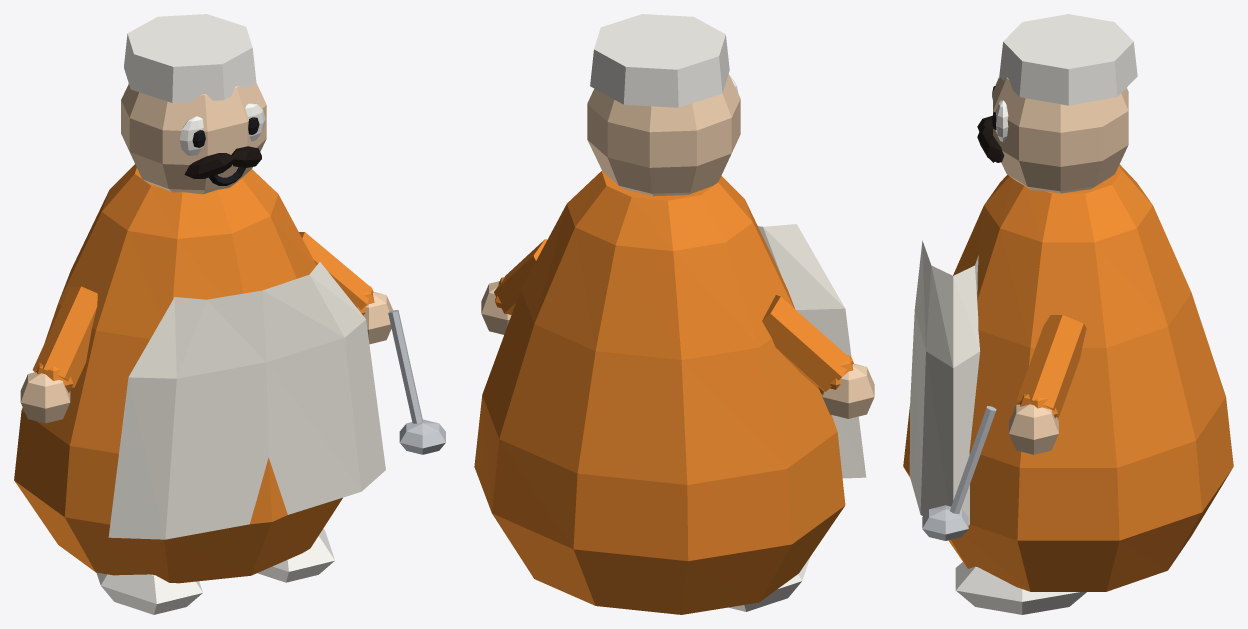
File: npc_cocinero_carcel.glb
3 renders of one model, left to right at view 1: azimuth 30°, elevation 25°; view 2: azimuth 150°, elevation 25°; view 3: azimuth 270°, elevation 25°, orthographic. The views are drawn at different scales.
Parts seen in each view (by area): view 1: body_apron, body_cook_smock, cap_white, head_skin_crema, arms_cook_smock, legs_white, arms_skin_crema, props_silver, face_hair_black, face_white, face_black; view 2: body_cook_smock, head_skin_crema, cap_white, body_apron, arms_cook_smock, arms_skin_crema, legs_white; view 3: body_cook_smock, body_apron, head_skin_crema, cap_white, arms_cook_smock, legs_white, props_silver, arms_skin_crema, face_hair_black, face_white.
Part boxes in pixels (box(x1,y1,x2,y2)): body_apron: box(108, 262, 385, 539); body_cook_smock: box(14, 164, 342, 583); cap_white: box(124, 14, 256, 102); head_skin_crema: box(121, 82, 266, 194); arms_cook_smock: box(32, 232, 374, 392); legs_white: box(96, 528, 334, 614); arms_skin_crema: box(20, 292, 393, 423); props_silver: box(388, 310, 445, 454); face_hair_black: box(184, 146, 261, 178); face_white: box(179, 103, 265, 155); face_black: box(192, 117, 259, 185); body_cook_smock: box(474, 171, 845, 614); head_skin_crema: box(587, 74, 740, 196); cap_white: box(590, 14, 729, 107); body_apron: box(758, 224, 866, 478); arms_cook_smock: box(494, 239, 853, 393); arms_skin_crema: box(481, 281, 874, 418); legs_white: box(728, 557, 810, 611); body_cook_smock: box(903, 164, 1233, 591); body_apron: box(909, 240, 980, 524); head_skin_crema: box(993, 77, 1128, 193); cap_white: box(999, 14, 1137, 105); arms_cook_smock: box(1016, 315, 1086, 418); legs_white: box(955, 562, 1086, 614); props_silver: box(922, 406, 996, 540); arms_skin_crema: box(1009, 404, 1058, 454); face_hair_black: box(977, 115, 1004, 162); face_white: box(995, 76, 1008, 141).
Bounding box in the file's own units: 1.15 × 1.53 × 0.86.
